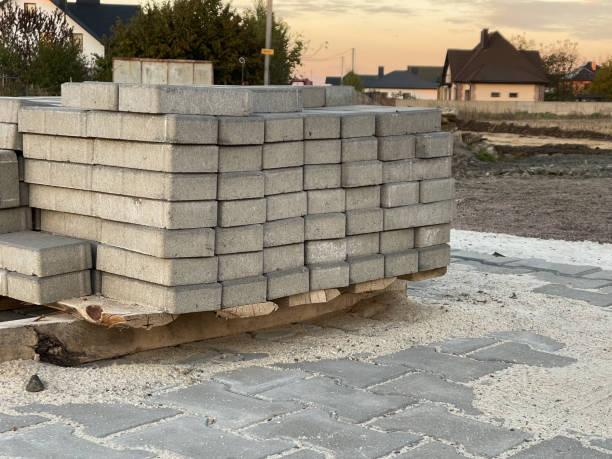Bricks: (100, 271, 173, 312), (39, 211, 102, 243), (158, 87, 218, 116), (41, 243, 92, 277), (41, 272, 93, 304), (220, 276, 268, 310), (164, 228, 219, 257), (216, 172, 267, 201), (121, 143, 170, 173), (220, 198, 268, 228), (124, 223, 166, 257), (2, 231, 86, 248), (125, 169, 171, 200), (125, 253, 171, 284), (62, 84, 118, 109), (0, 242, 40, 277), (221, 251, 266, 282), (174, 283, 220, 313), (215, 145, 264, 173), (171, 256, 220, 284), (171, 173, 218, 202), (165, 202, 218, 227), (169, 115, 218, 142), (170, 145, 219, 172), (308, 261, 352, 291), (216, 117, 264, 144), (264, 244, 307, 274), (267, 269, 310, 299), (122, 113, 168, 141), (124, 198, 166, 228), (218, 225, 263, 253), (45, 109, 89, 137), (265, 217, 306, 247), (255, 87, 304, 112), (304, 213, 347, 241), (1, 150, 22, 207), (90, 192, 126, 224), (51, 136, 92, 164), (263, 142, 305, 169), (265, 168, 305, 196), (268, 194, 309, 221), (54, 187, 92, 216), (119, 85, 158, 113), (340, 162, 382, 188), (49, 163, 92, 188), (343, 209, 384, 235), (339, 137, 379, 163), (381, 181, 421, 207), (265, 115, 303, 142), (307, 239, 345, 266), (306, 190, 347, 215), (91, 165, 125, 195), (304, 113, 341, 140), (386, 251, 420, 280), (219, 87, 254, 115), (378, 136, 417, 161), (416, 223, 453, 249), (353, 256, 386, 285), (339, 112, 377, 137), (94, 245, 126, 274), (417, 202, 454, 227), (386, 205, 419, 233), (304, 165, 342, 189), (347, 186, 382, 212), (304, 141, 341, 165), (419, 179, 454, 204), (381, 161, 420, 183), (417, 133, 451, 158), (90, 111, 121, 138), (92, 140, 123, 167), (7, 274, 38, 301), (383, 230, 416, 255), (21, 133, 51, 160), (418, 157, 454, 179), (1, 207, 32, 232), (377, 114, 412, 136), (348, 234, 380, 258), (100, 219, 127, 247), (309, 105, 399, 113), (420, 246, 451, 269), (20, 161, 49, 185), (115, 59, 142, 84), (17, 107, 45, 131), (411, 111, 442, 132), (143, 59, 168, 84), (29, 185, 54, 210), (170, 59, 194, 85), (325, 86, 357, 105), (0, 95, 19, 123), (0, 125, 20, 151), (20, 97, 60, 107), (197, 61, 212, 86), (305, 89, 324, 107), (92, 271, 102, 295), (0, 272, 7, 296)
